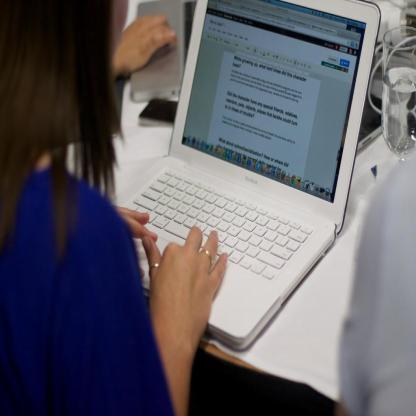board: (112, 0, 381, 353)
